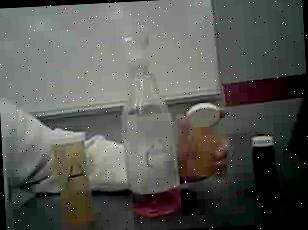Bottle A: (44, 127, 112, 230)
Bottle B: (180, 99, 238, 187)
Bottle C: (245, 127, 290, 201)
hazard: (104, 30, 186, 226)
